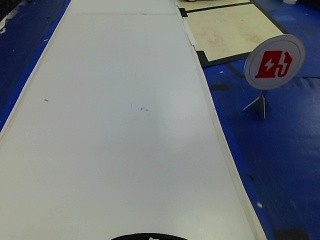battery: (243, 36, 308, 90)
